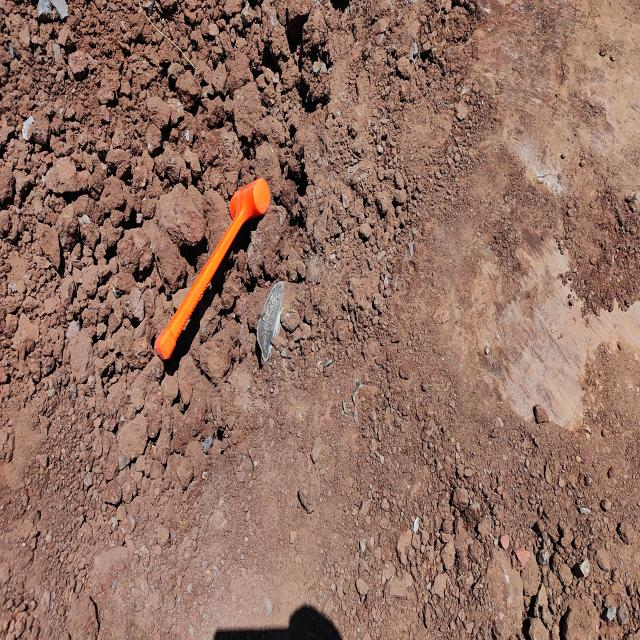Orange_hammer: (153, 176, 271, 361)
